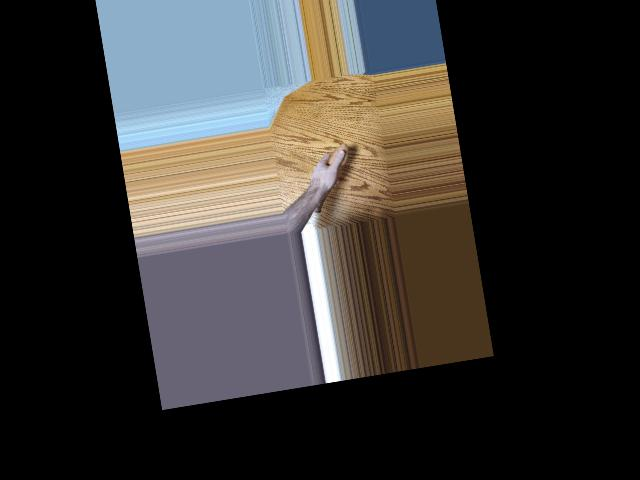sweet_potato: (301, 142, 357, 216)
